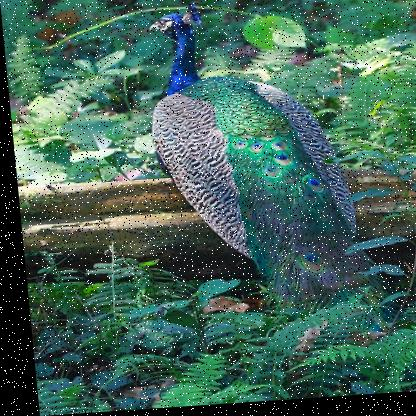Burung: (138, 0, 377, 317)
